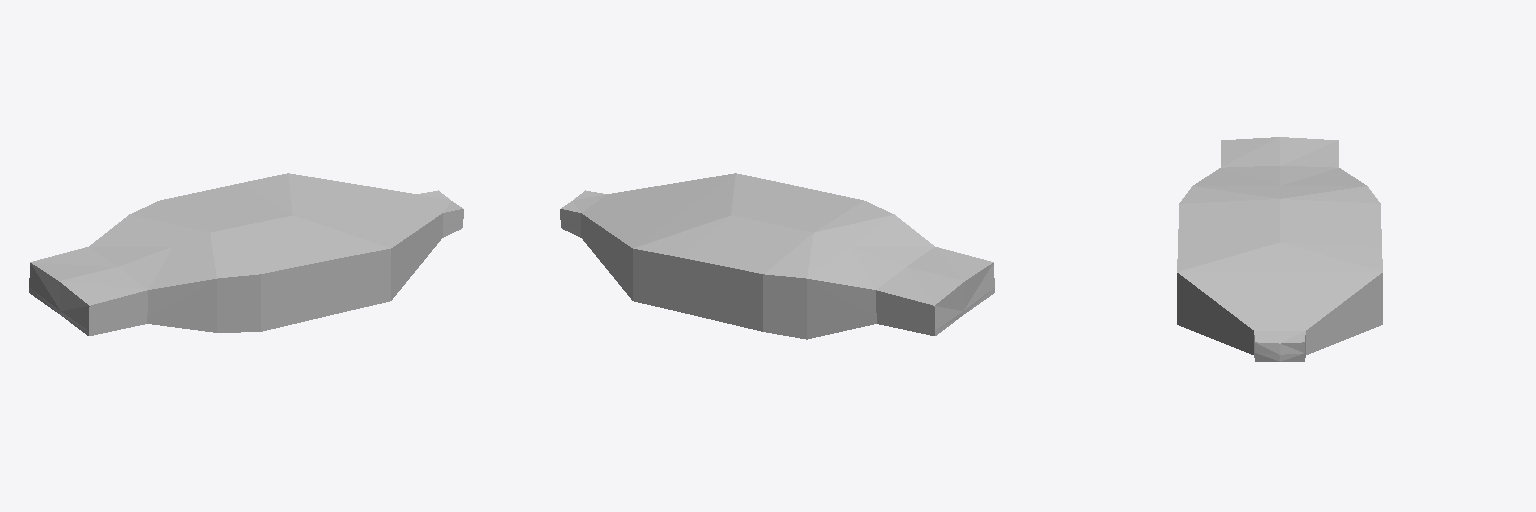
The model's file is tank.obj.
3 views of the same model, side by side, from view 1: azimuth 30°, elevation 25°; view 2: azimuth 150°, elevation 25°; view 3: azimuth 270°, elevation 25° (orthographic).
Visible parts, largest first — view 1: torretta; view 2: torretta; view 3: torretta.
Part boxes in pixels (left/top/right/bottom): torretta: left=29, top=173, right=463, bottom=335; torretta: left=560, top=173, right=994, bottom=339; torretta: left=1177, top=137, right=1382, bottom=361.
Size of the model in its own units: 2.91 by 0.4883 by 1.32.